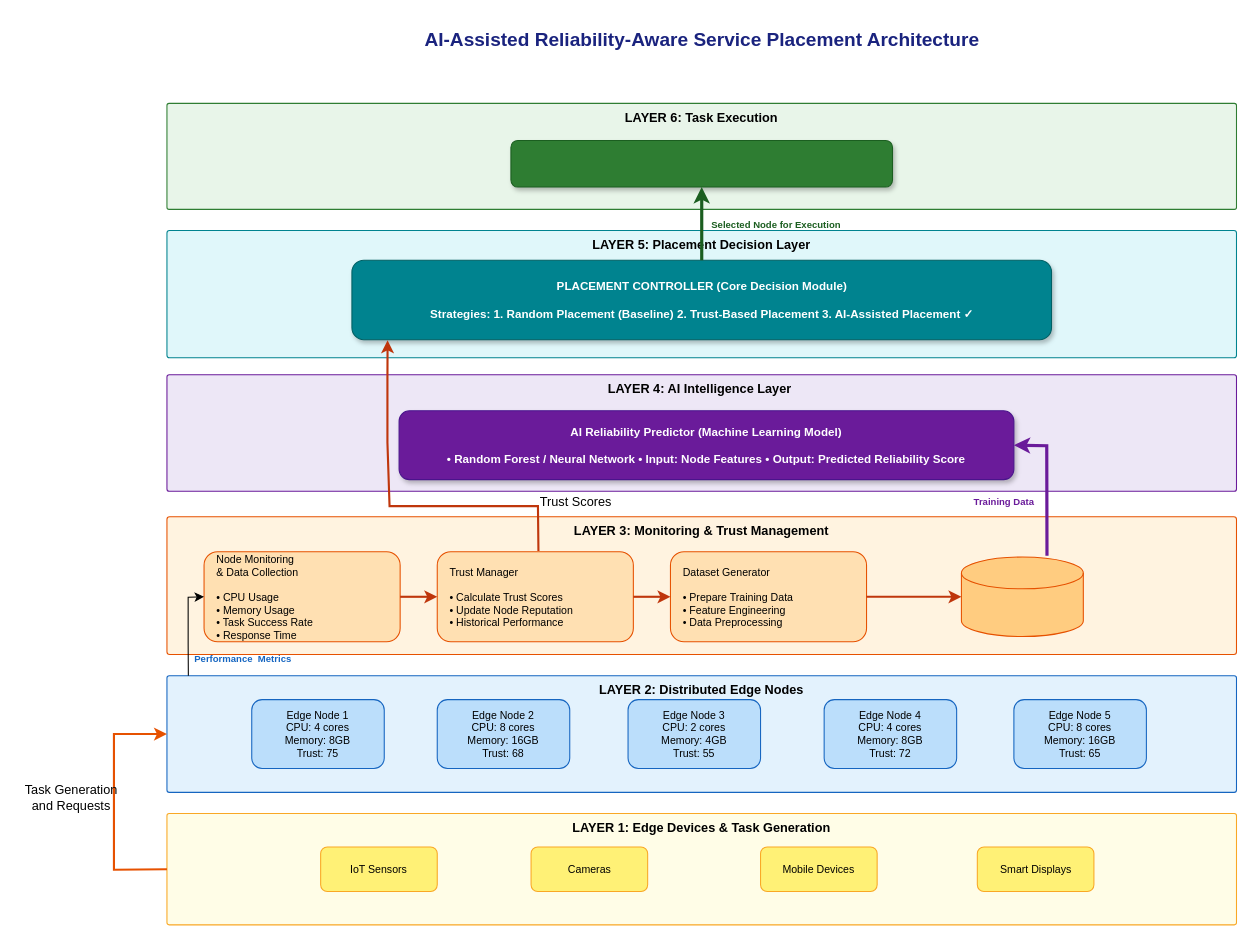
This 1255x943 diagram has some shape labels left out. Here are the shapes that lost their labels. From the top down, the centre of each, then its label:
At point (702, 165): "✔ Selected Edge Node — Executes Task".
At point (1021, 596): "Historical Performance DB".
